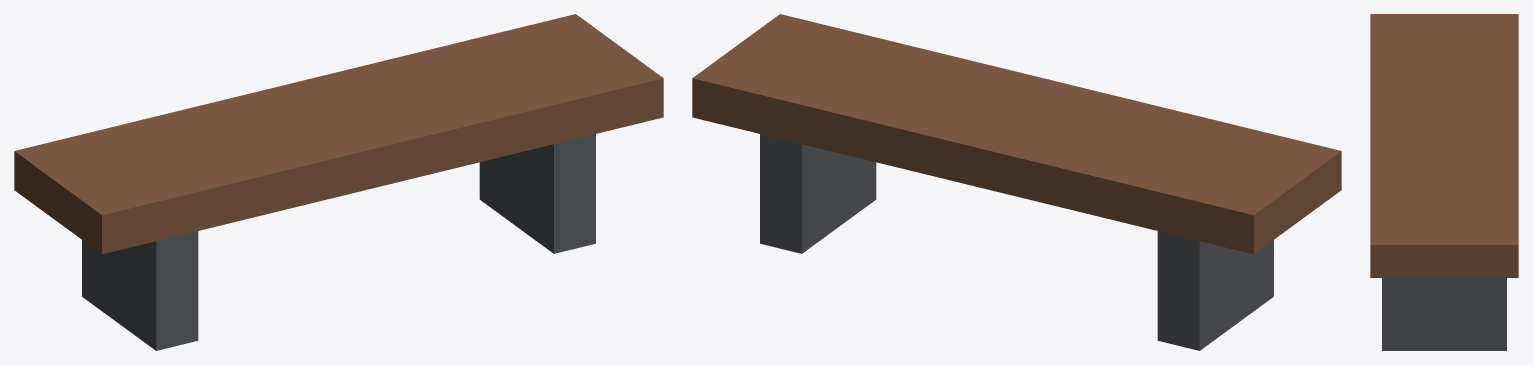
The model's file is bh_waterfront_bench_01_lod0.glb.
3 renders of one model, left to right at view 1: azimuth 30°, elevation 25°; view 2: azimuth 150°, elevation 25°; view 3: azimuth 270°, elevation 25°, orthographic. The views are drawn at different scales.
Visible parts, largest first — view 1: bh_waterfront_bench_01_seat, bh_waterfront_bench_01_base_l, bh_waterfront_bench_01_base_r; view 2: bh_waterfront_bench_01_seat, bh_waterfront_bench_01_base_l, bh_waterfront_bench_01_base_r; view 3: bh_waterfront_bench_01_seat, bh_waterfront_bench_01_base_r.
Part boxes in pixels (left/top/right/bottom): bh_waterfront_bench_01_seat: left=14, top=14, right=663, bottom=254; bh_waterfront_bench_01_base_l: left=82, top=231, right=198, bottom=350; bh_waterfront_bench_01_base_r: left=479, top=134, right=595, bottom=253; bh_waterfront_bench_01_seat: left=692, top=14, right=1341, bottom=254; bh_waterfront_bench_01_base_l: left=1157, top=231, right=1273, bottom=350; bh_waterfront_bench_01_base_r: left=760, top=134, right=876, bottom=253; bh_waterfront_bench_01_seat: left=1370, top=14, right=1518, bottom=277; bh_waterfront_bench_01_base_r: left=1382, top=278, right=1506, bottom=350.
Size of the model in its own units: 2.4 by 0.635 by 0.65.
